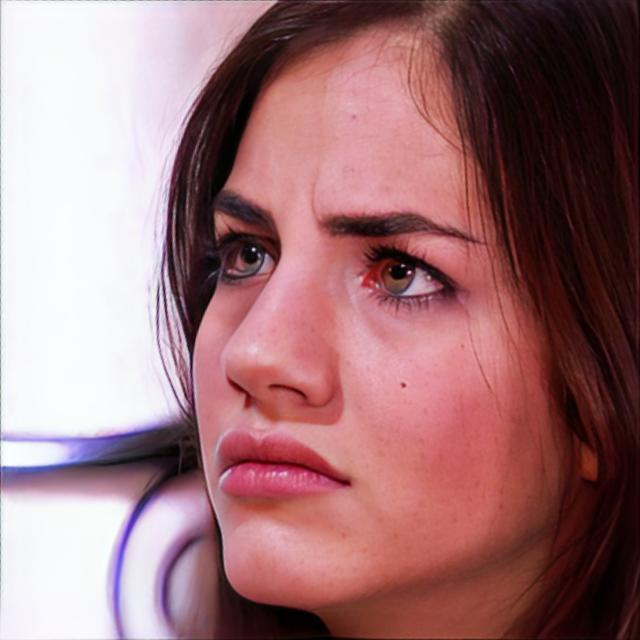anger: (188, 36, 570, 612)
